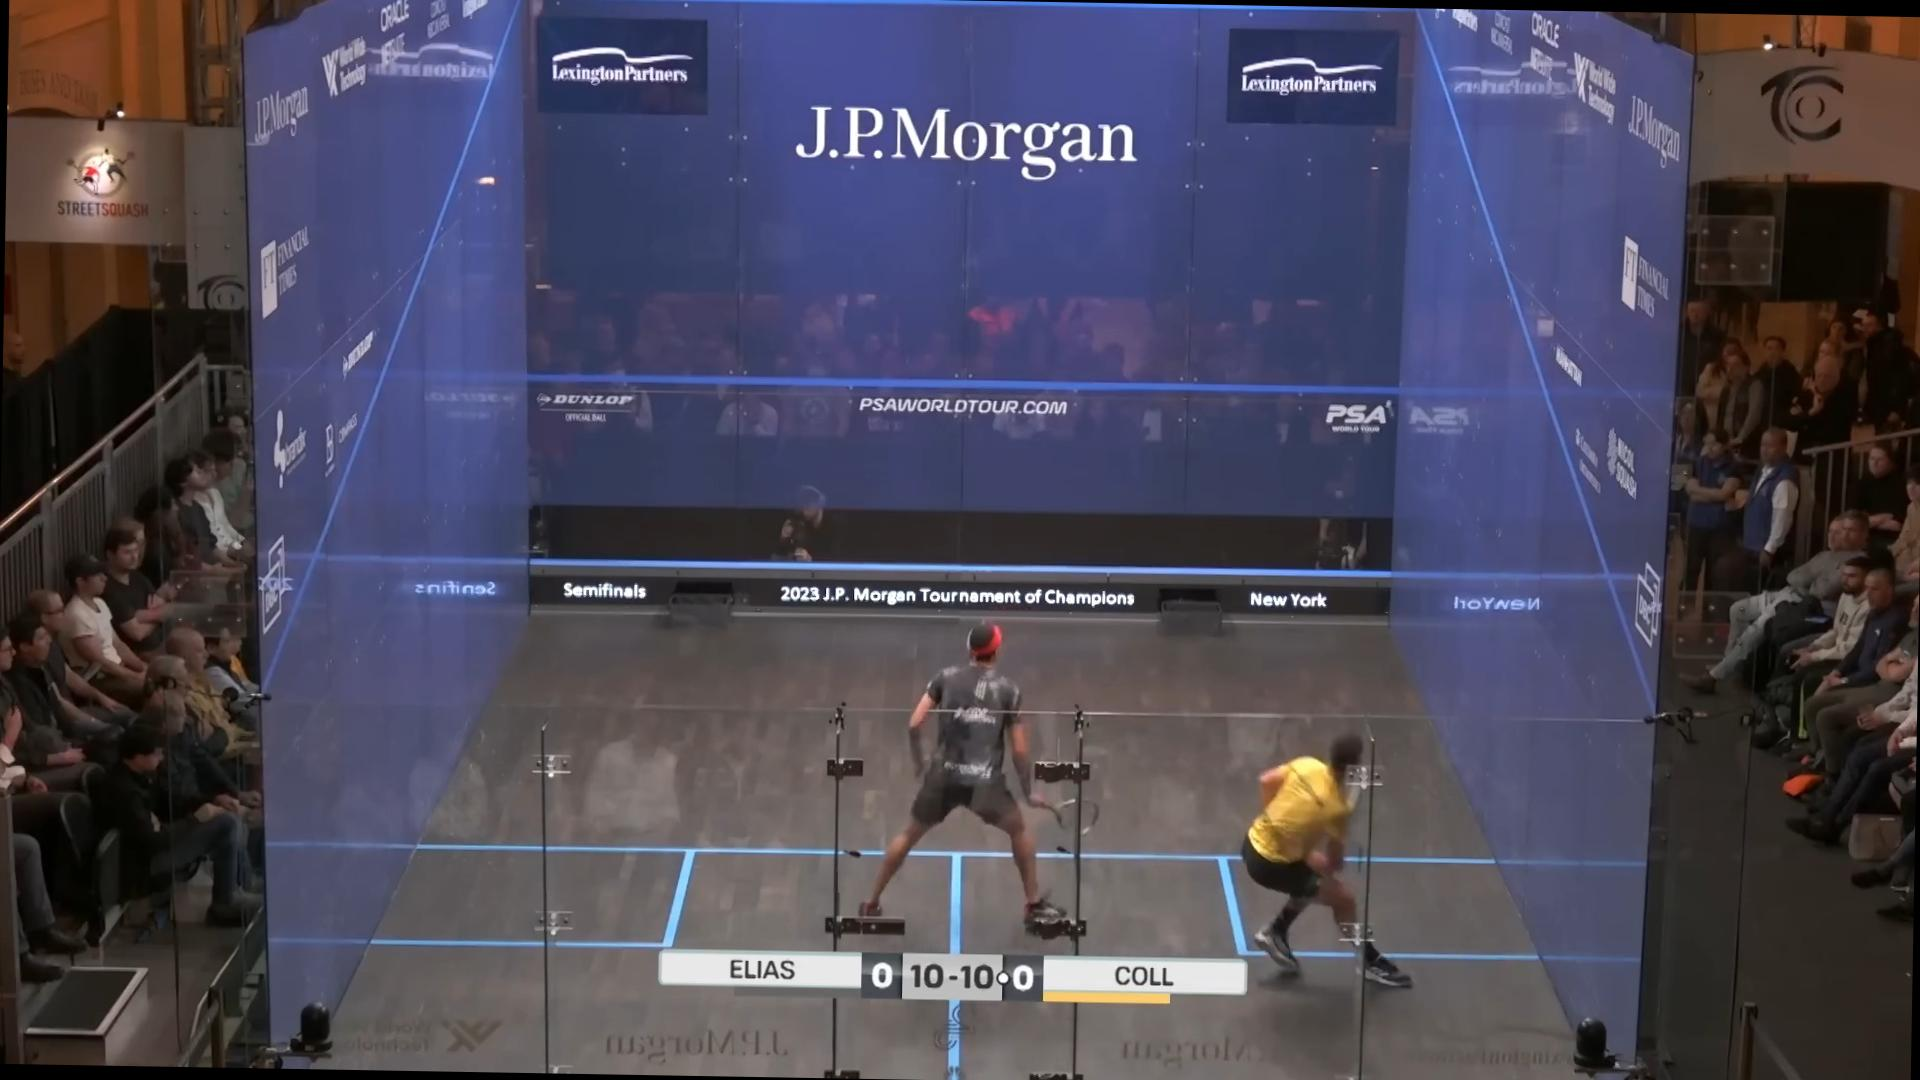Racket: (1040, 790, 1106, 843)
